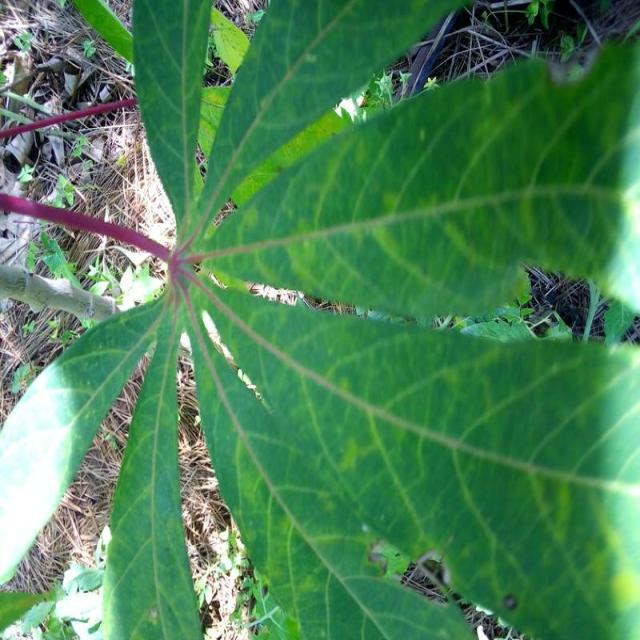cassava leaf: (3, 1, 639, 638), (190, 290, 640, 639), (195, 37, 640, 321), (1, 284, 172, 588)
